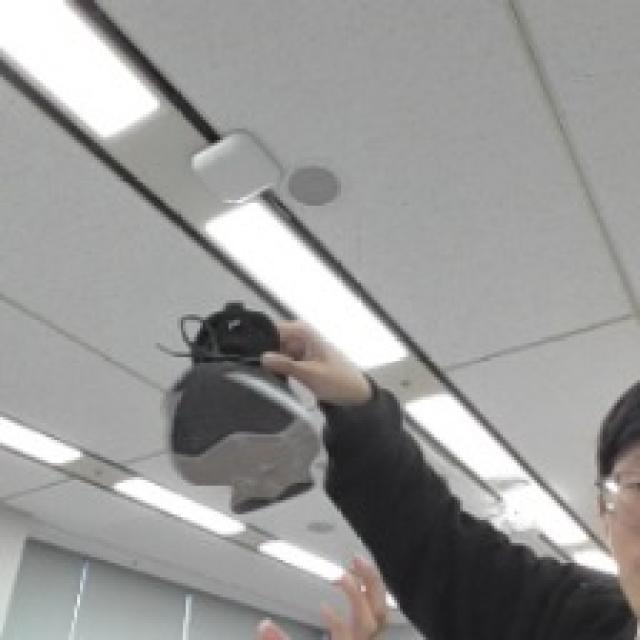shoe: (107, 267, 366, 556)
